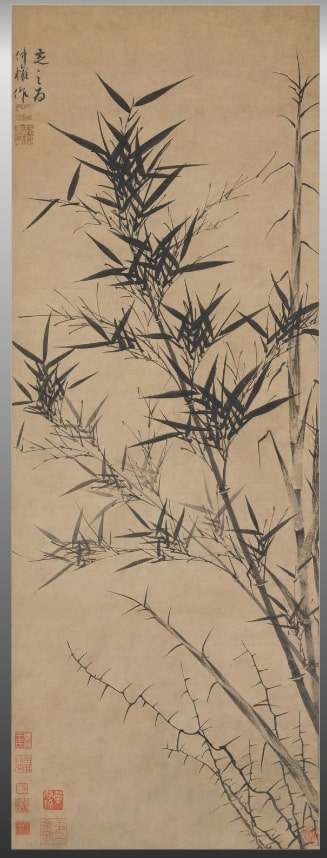bamboo: (60, 75, 327, 846)
